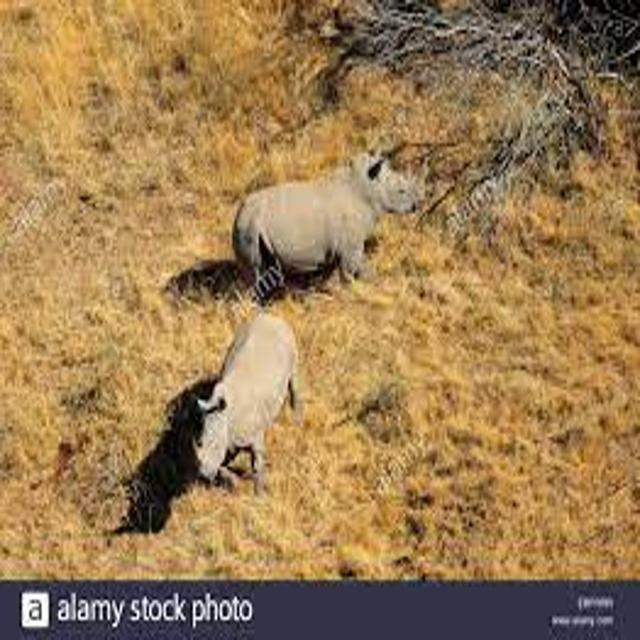Rinoceros: (214, 134, 456, 318), (146, 321, 324, 488)
